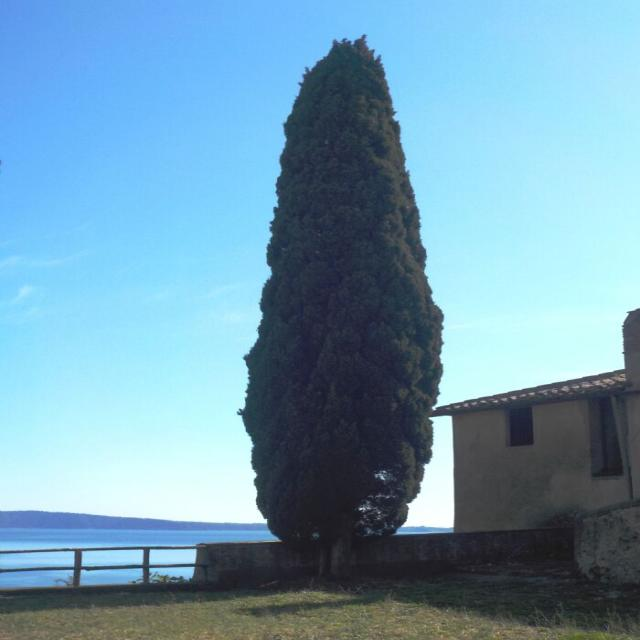cipres: (235, 34, 448, 586)
